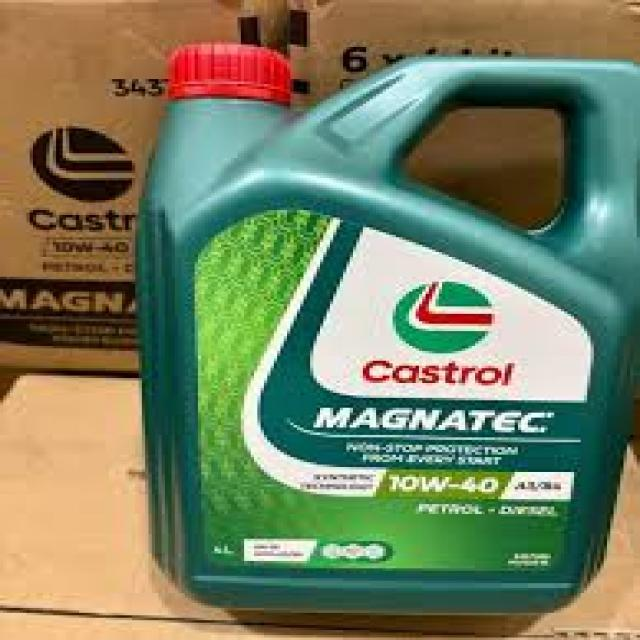motor_oil: (135, 32, 625, 620)
